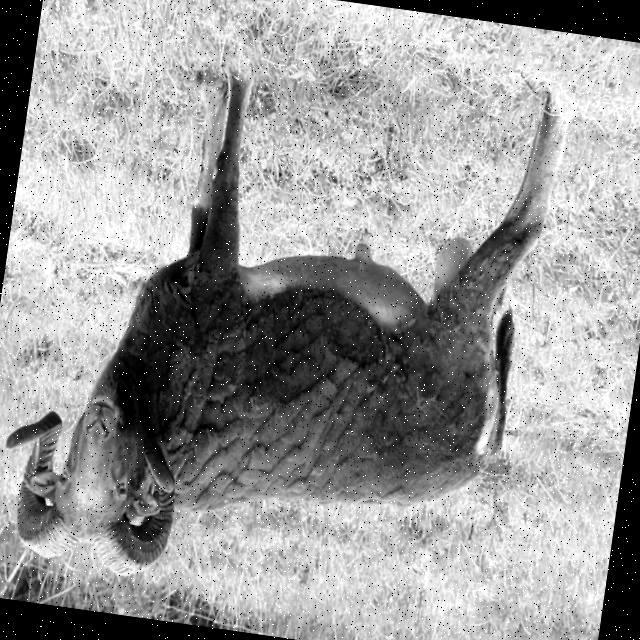sheep: (12, 81, 559, 574)
